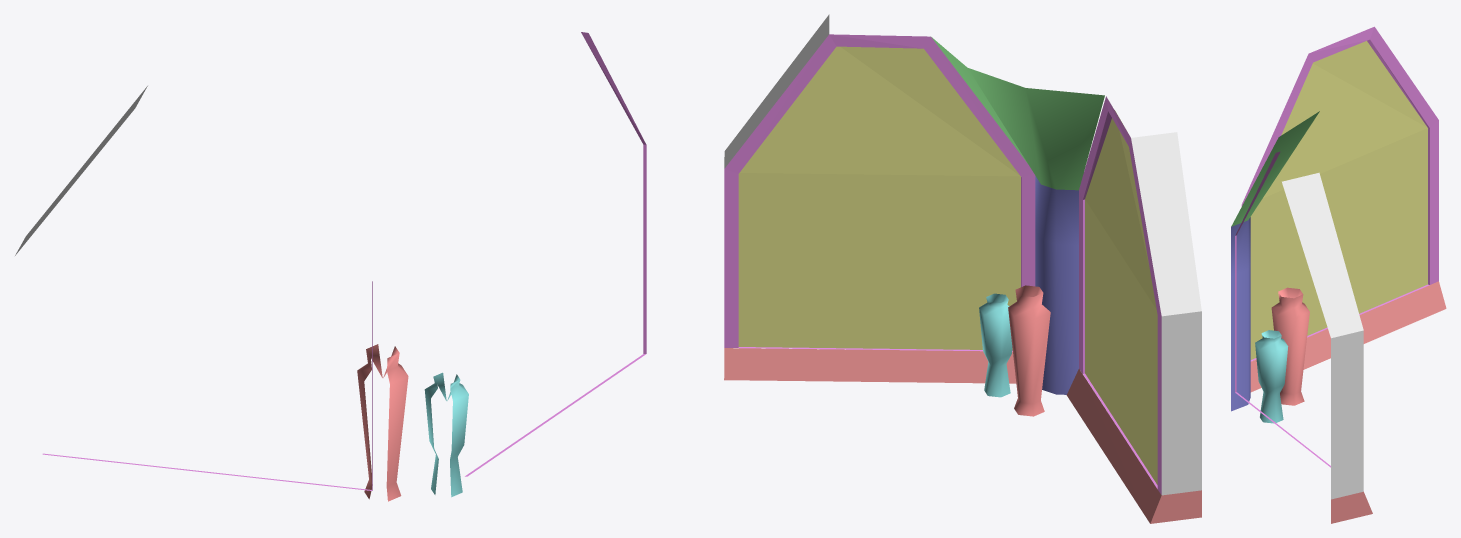
Rendered from interior_B_delf_store_07.gltf.
3 renders of one model, left to right at view 1: azimuth 30°, elevation 25°; view 2: azimuth 150°, elevation 25°; view 3: azimuth 270°, elevation 25°, orthographic. The views are drawn at different scales.
Visible parts, largest first — view 1: interior_B_delf_store_07; view 2: interior_B_delf_store_07; view 3: interior_B_delf_store_07.
Boxes of the visible parts, box(x1,y1,x2,y2) form: interior_B_delf_store_07: box(15, 32, 646, 501); interior_B_delf_store_07: box(724, 14, 1201, 523); interior_B_delf_store_07: box(1231, 26, 1446, 523).
Bounding box in the file's own units: 2.01 × 1.27 × 0.8023.
